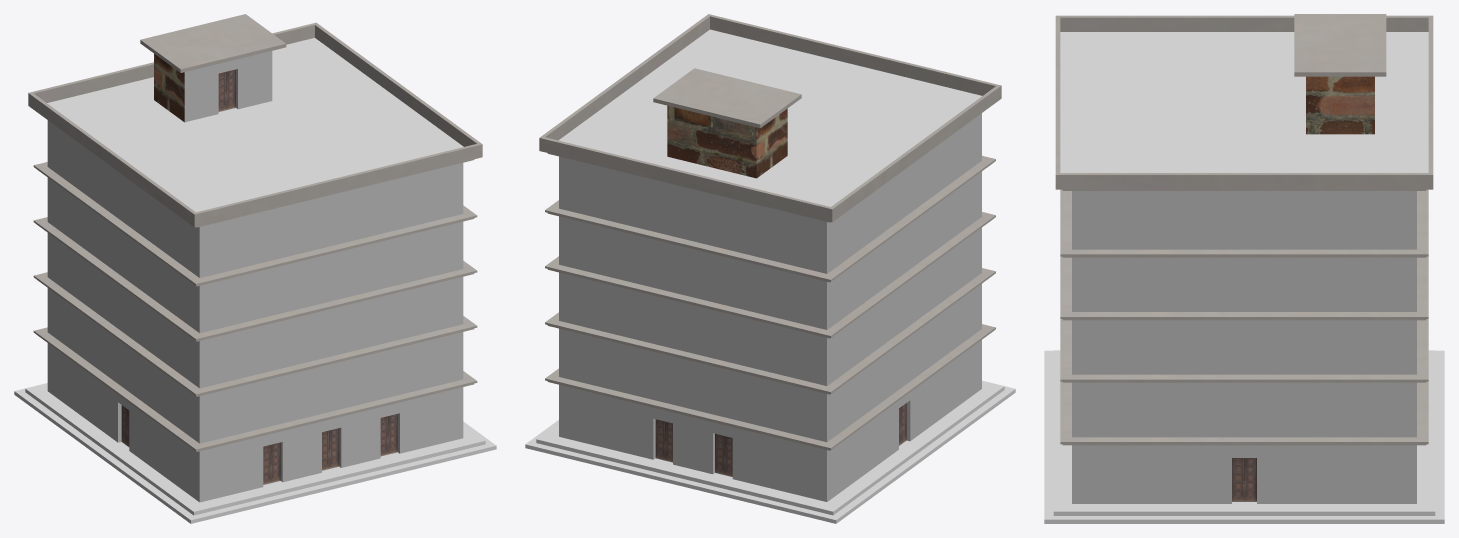
Rendered from BuildingG.fbx.
3 renders of one model, left to right at view 1: azimuth 30°, elevation 25°; view 2: azimuth 150°, elevation 25°; view 3: azimuth 270°, elevation 25°, orthographic. The views are drawn at different scales.
Visible parts, largest first — view 1: BuildingG; view 2: BuildingG; view 3: BuildingG.
Boxes of the visible parts, x1,y1,x2,y2 form: BuildingG: (14, 14, 496, 523); BuildingG: (525, 14, 1015, 523); BuildingG: (1044, 14, 1444, 523).
Bounding box in the file's own units: 1740 × 1900 × 1740.
